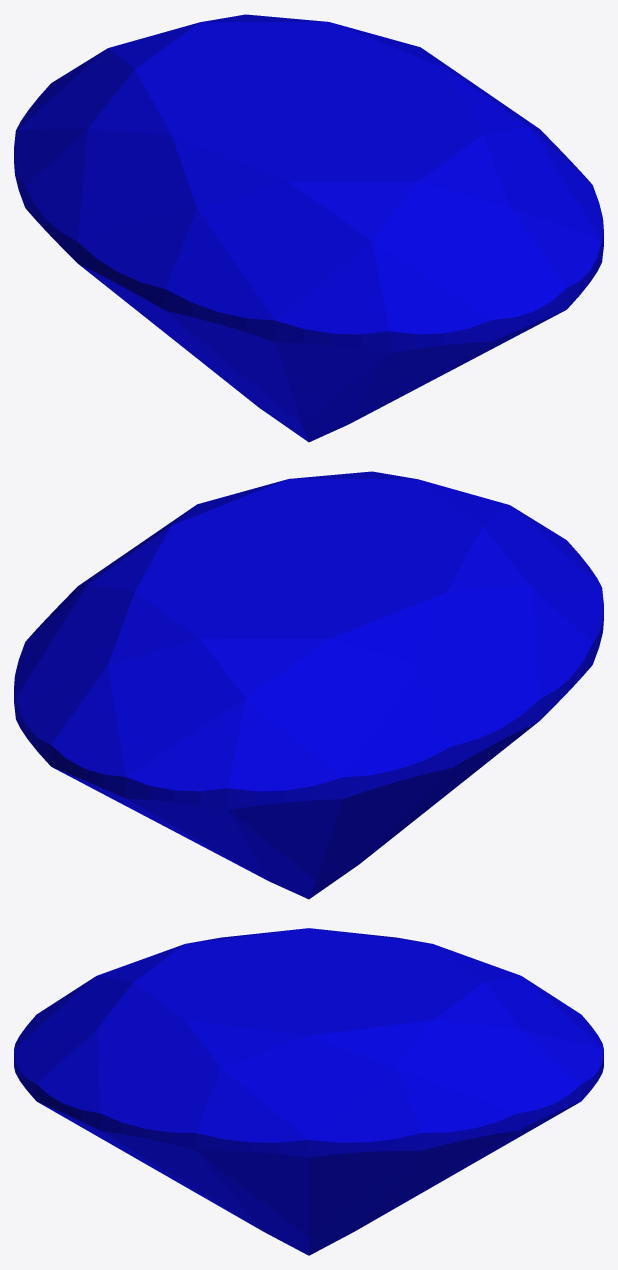
The model's file is Head_No Halo_Oval_0.75ct_Diamond.glb.
3 views of the same model, one above another, from view 1: azimuth 30°, elevation 25°; view 2: azimuth 150°, elevation 25°; view 3: azimuth 270°, elevation 25° (orthographic). The views are drawn at different scales.
Bounding box in the file's own units: 0.00504 × 0.00355 × 0.00693.
